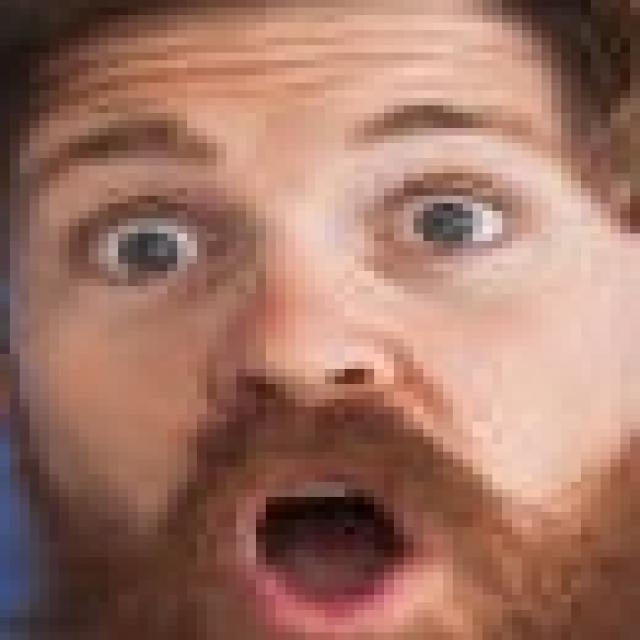Anxiety: (10, 0, 640, 632)
